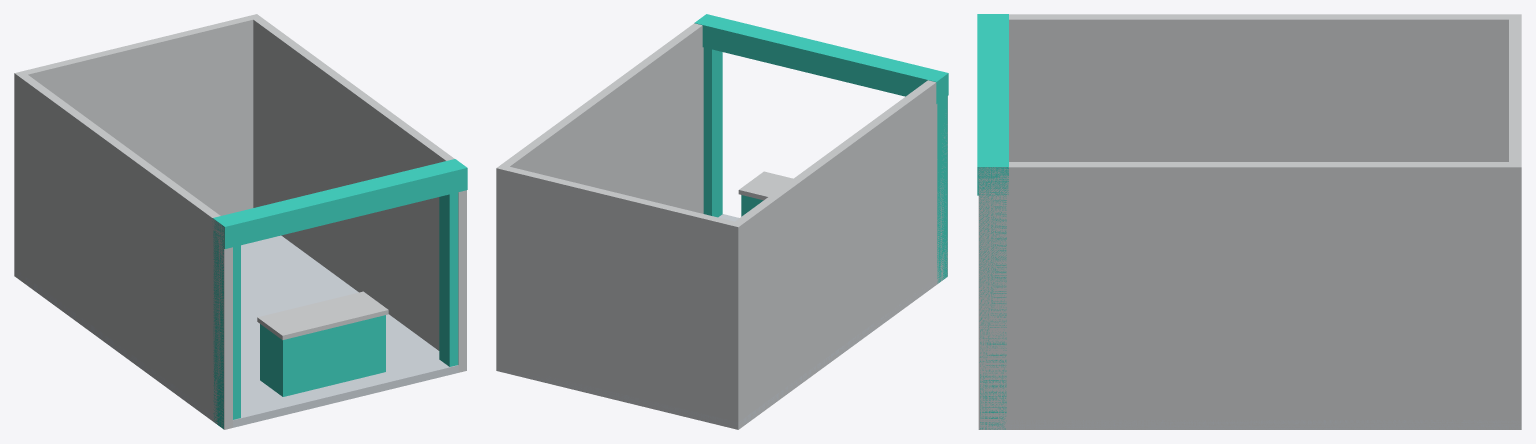
3 renders of one model, left to right at view 1: azimuth 30°, elevation 25°; view 2: azimuth 150°, elevation 25°; view 3: azimuth 270°, elevation 25°, orthographic. The views are drawn at different scales.
Visible parts, largest first — view 1: Exhibition Booth Concept; view 2: Exhibition Booth Concept; view 3: Exhibition Booth Concept.
Boxes of the visible parts, x1=… form: Exhibition Booth Concept: x1=14, y1=14, x2=467, y2=429; Exhibition Booth Concept: x1=496, y1=14, x2=948, y2=429; Exhibition Booth Concept: x1=977, y1=14, x2=1521, y2=429.
Size of the model in its own units: 4 by 3.2 by 6.02.
